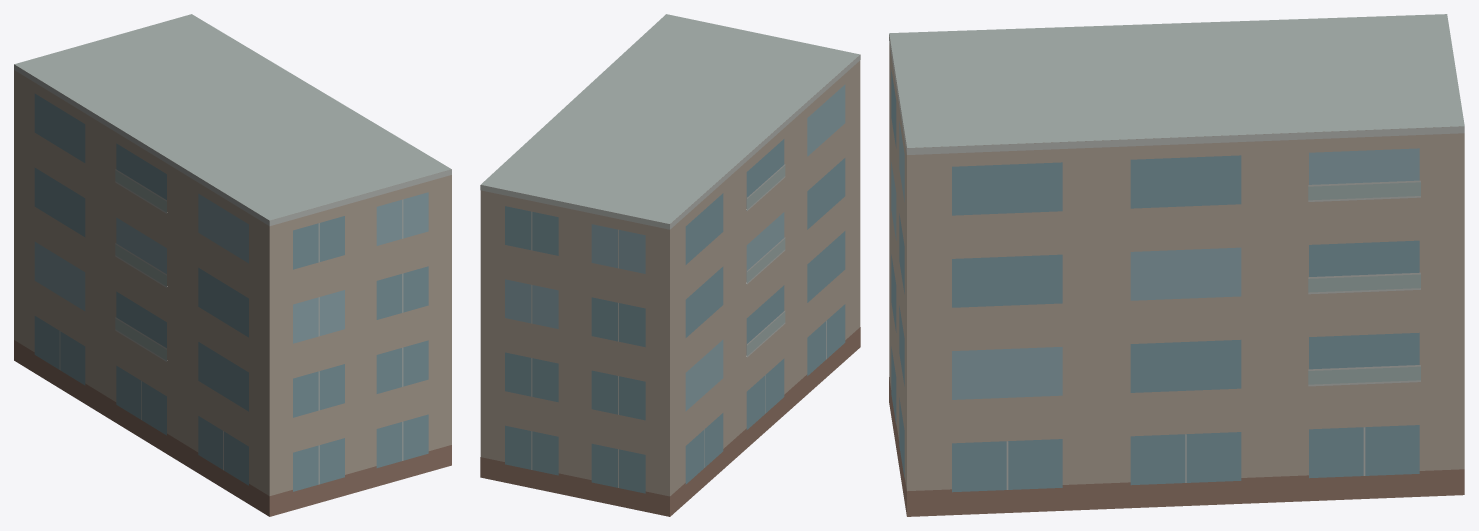
File: survey-upis-32885104.glb
3 renders of one model, left to right at view 1: azimuth 30°, elevation 25°; view 2: azimuth 150°, elevation 25°; view 3: azimuth 270°, elevation 25°, orthographic. The views are drawn at different scales.
Parts seen in each view (by area): view 1: survey-upis-32885104.tmp; view 2: survey-upis-32885104.tmp; view 3: survey-upis-32885104.tmp.
Boxes of the visible parts, left/top/right/bottom form: survey-upis-32885104.tmp: left=14, top=14, right=451, bottom=516; survey-upis-32885104.tmp: left=480, top=14, right=860, bottom=516; survey-upis-32885104.tmp: left=889, top=14, right=1464, bottom=516.
Bounding box in the file's own units: 9.99 × 12.8 × 18.12.
